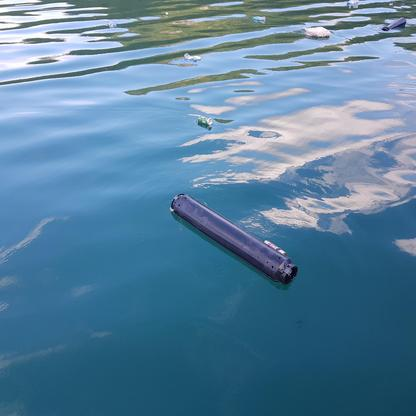can: (197, 116, 213, 125)
foam: (300, 26, 332, 38)
plastic bottle: (183, 51, 200, 62), (252, 13, 267, 22), (347, 1, 360, 8)
